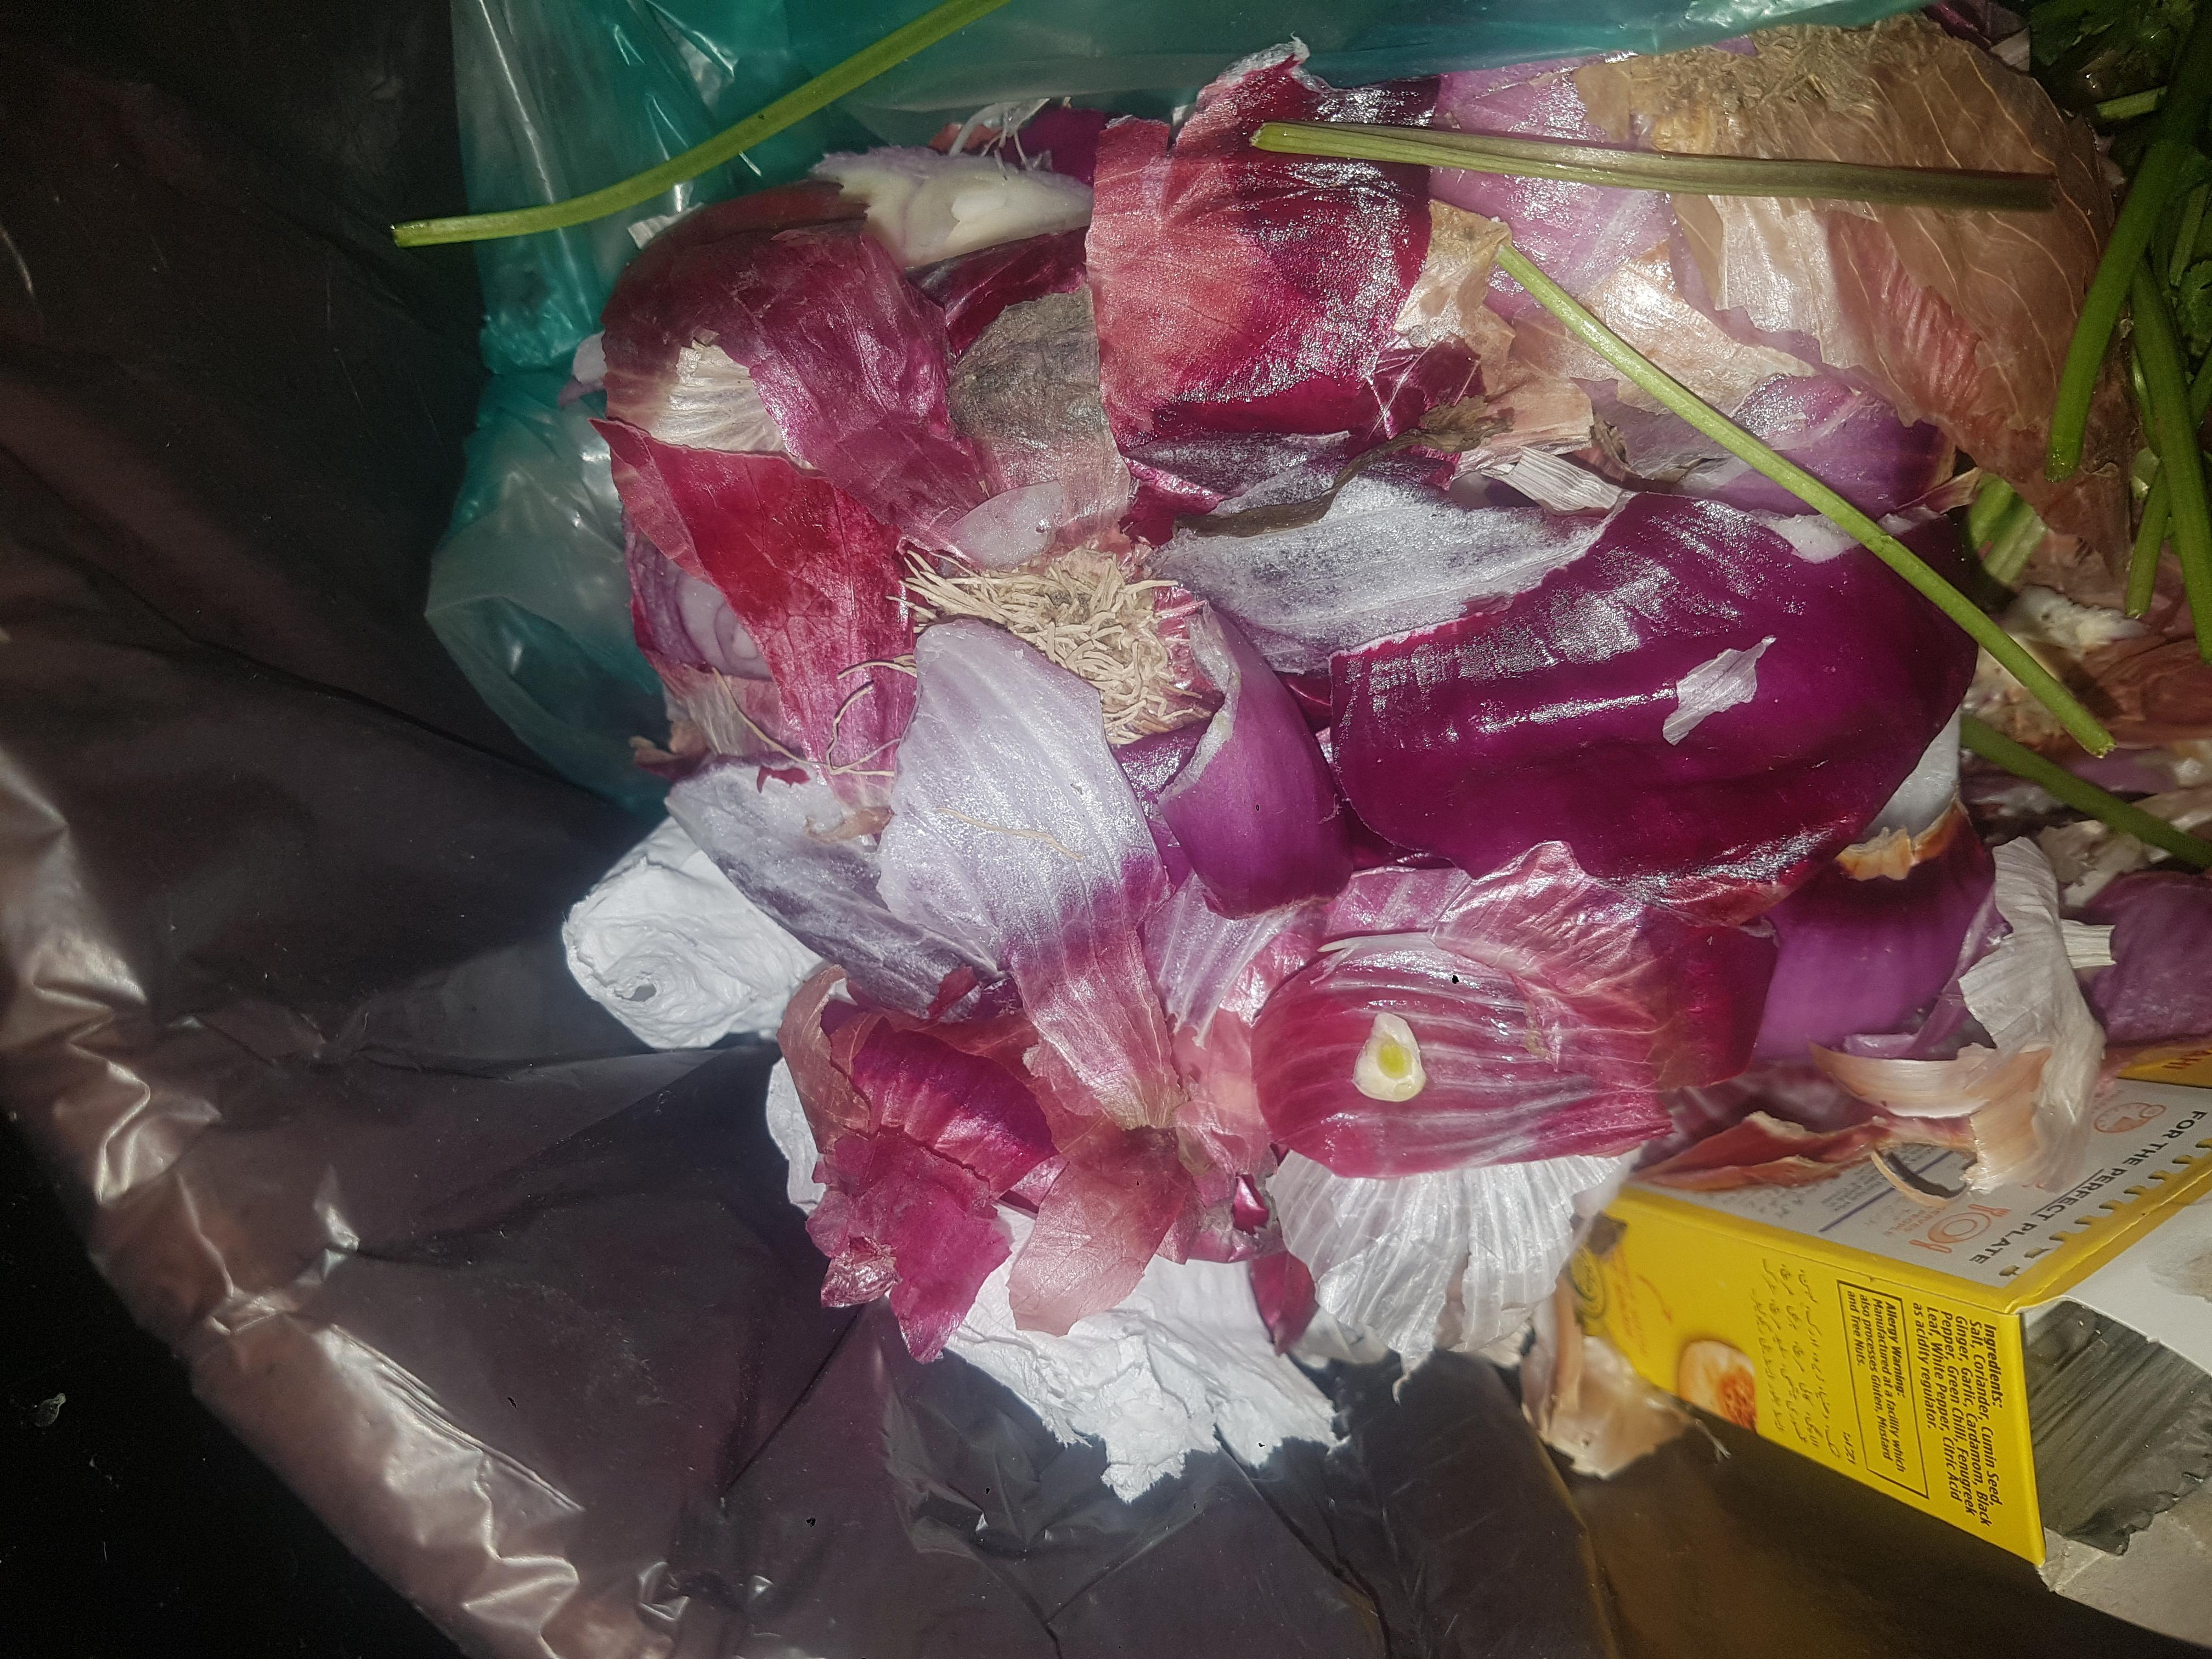organic: (293, 429, 2047, 1445)
